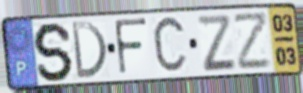C: (151, 13, 189, 78)
D: (69, 20, 110, 81)
F: (112, 17, 149, 78)
S: (32, 21, 76, 84)
Z: (194, 13, 238, 73), (232, 10, 273, 72)
